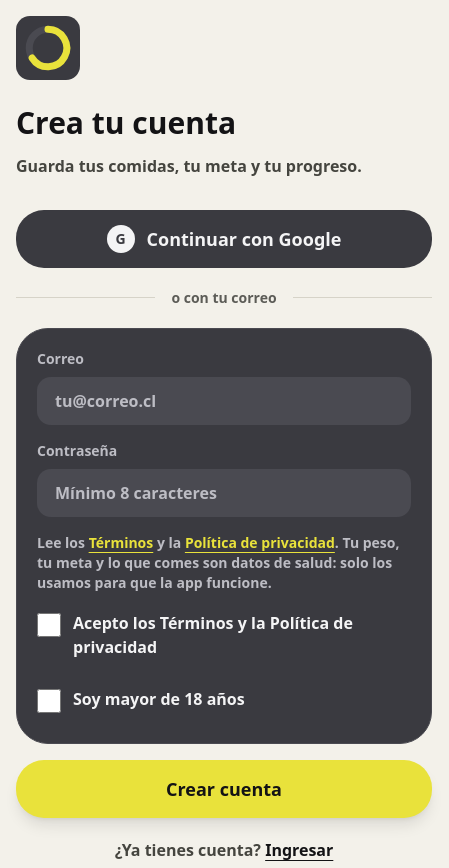
Test: SignupPage › shows a clear message next to the email when it is taken (an error, HU-01 CA3)
Type "ana@correo.cl" into the field labelled "Correo" at (224, 400), box [37, 376, 411, 424]
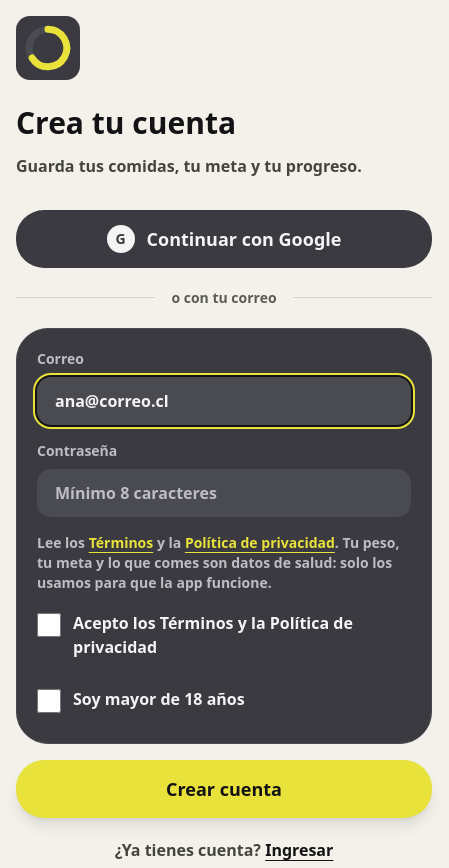
Type "secreta123" into the password field labelled "Contraseña" at (224, 492), box [37, 468, 411, 516]
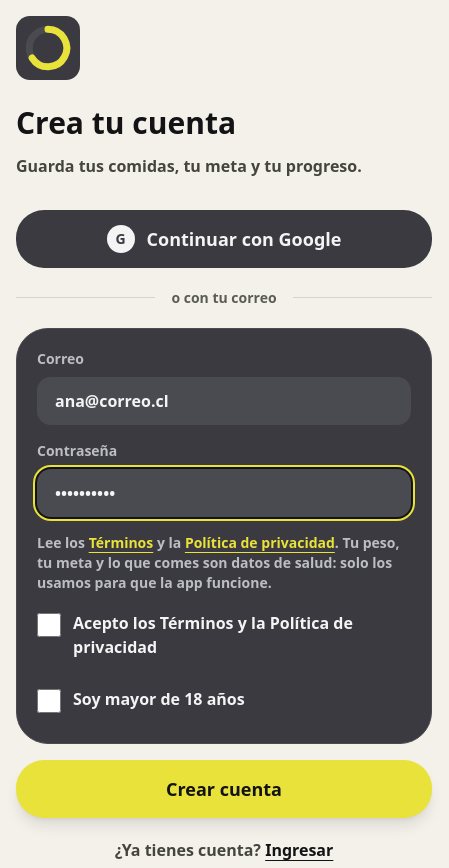
Click the checkbox labelled "Acepto los Términos y la Política de privacidad" at (49, 624), box [37, 612, 61, 636]
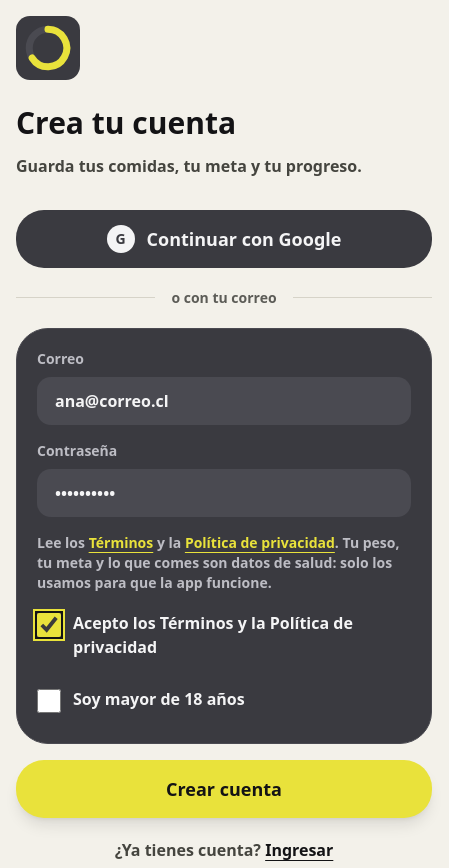
Click the checkbox labelled "Soy mayor de 18 años" at (49, 700), box [37, 688, 61, 712]
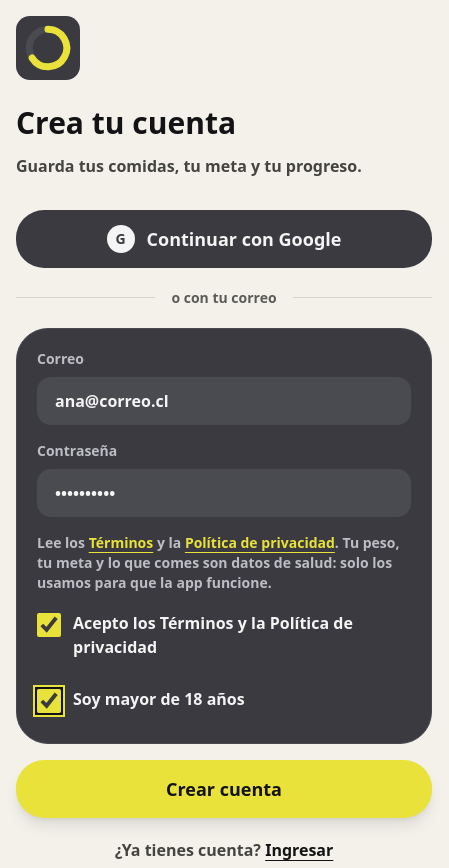
Click the button "Crear cuenta" at (224, 788), box [16, 760, 432, 818]
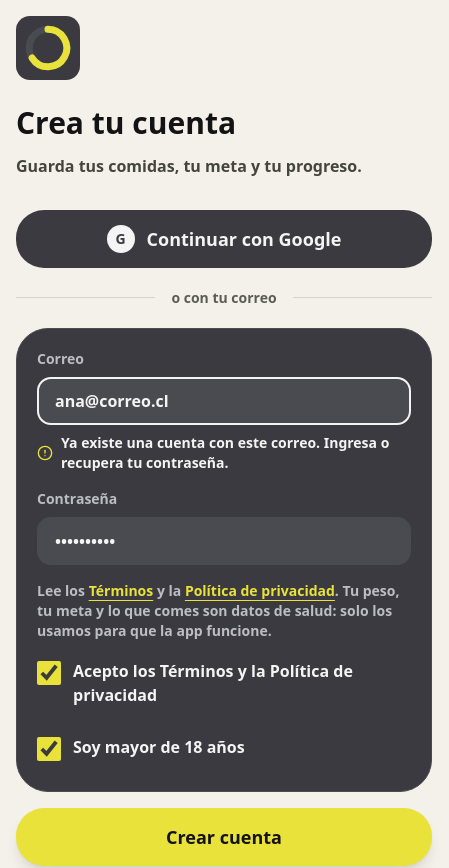
Result: the text "Ya existe una cuenta con este correo. Ingresa o recupera tu contraseña." is shown at [37, 432, 411, 472]
